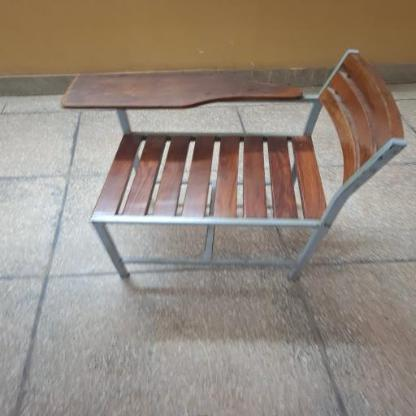chair: (51, 45, 415, 288)
